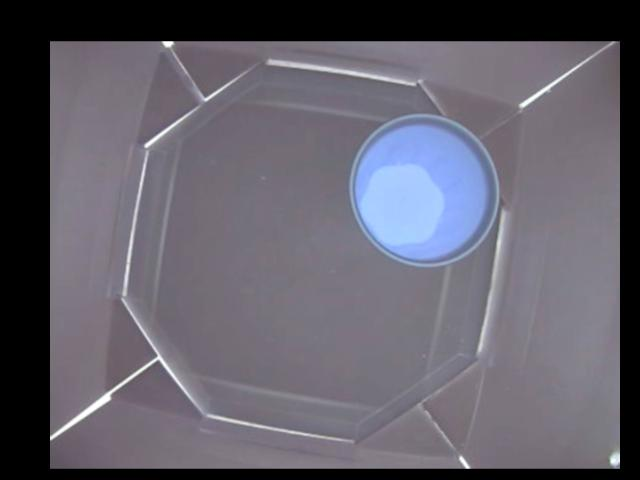Cup: (350, 112, 499, 266)
